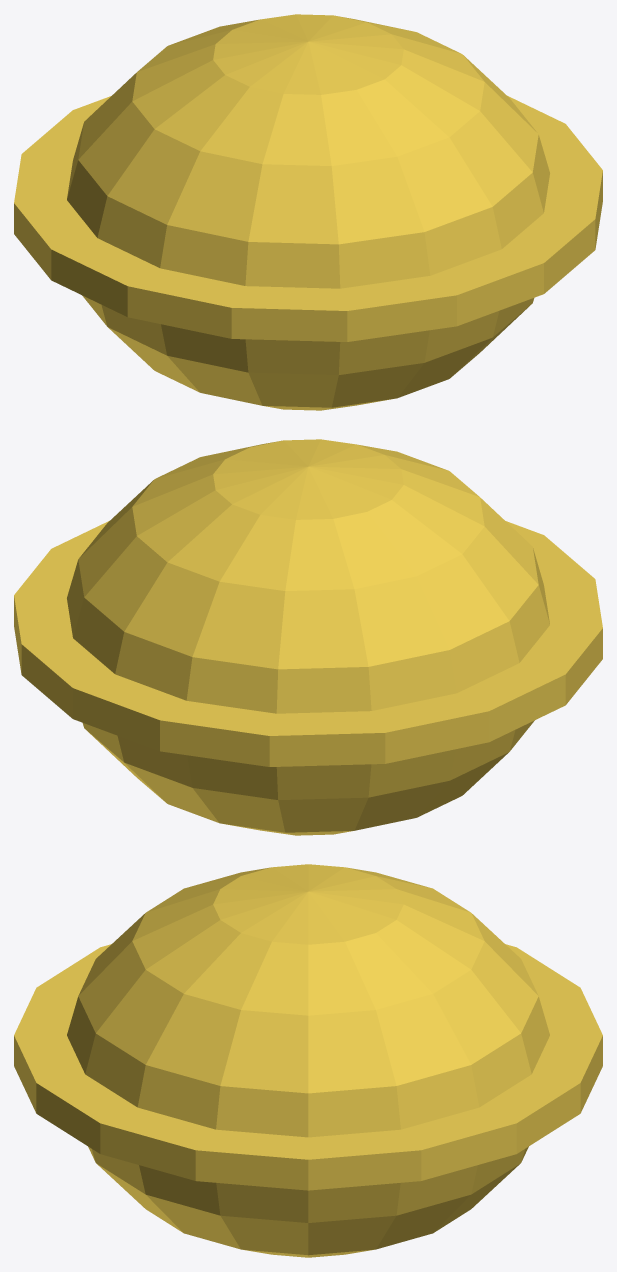
File: dec_helmet.glb
3 renders of one model, top to bottom at view 1: azimuth 30°, elevation 25°; view 2: azimuth 150°, elevation 25°; view 3: azimuth 270°, elevation 25°, orthographic.
Visible parts, largest first — view 1: dec_helmet; view 2: dec_helmet; view 3: dec_helmet.
Boxes of the visible parts, x1,y1,x2,y2 form: dec_helmet: (14,14,602,410); dec_helmet: (14,439,602,835); dec_helmet: (14,864,602,1257).
Bounding box in the file's own units: 0.26 × 0.165 × 0.26.
